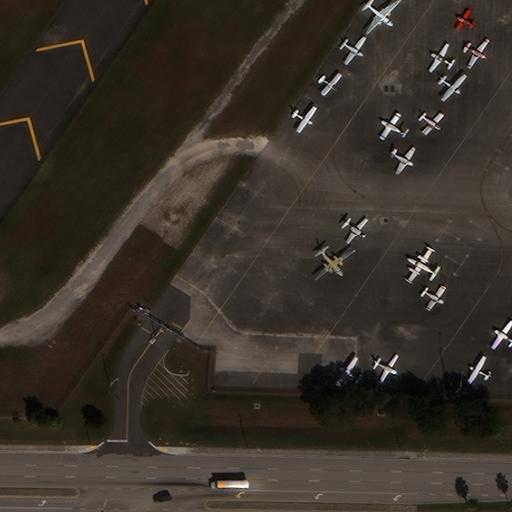Medium Civil Transport: (316, 249, 355, 281), (366, 0, 401, 35)
Small Civil Transport: (406, 249, 436, 279), (334, 356, 362, 384), (439, 76, 468, 102), (427, 42, 453, 70), (464, 41, 490, 69), (341, 38, 367, 65), (374, 356, 400, 383), (390, 148, 416, 175), (466, 354, 489, 381), (293, 108, 317, 133), (490, 319, 511, 347), (344, 220, 368, 244), (380, 115, 406, 136), (420, 114, 444, 136), (423, 289, 446, 311), (320, 76, 342, 96), (454, 9, 473, 27)
